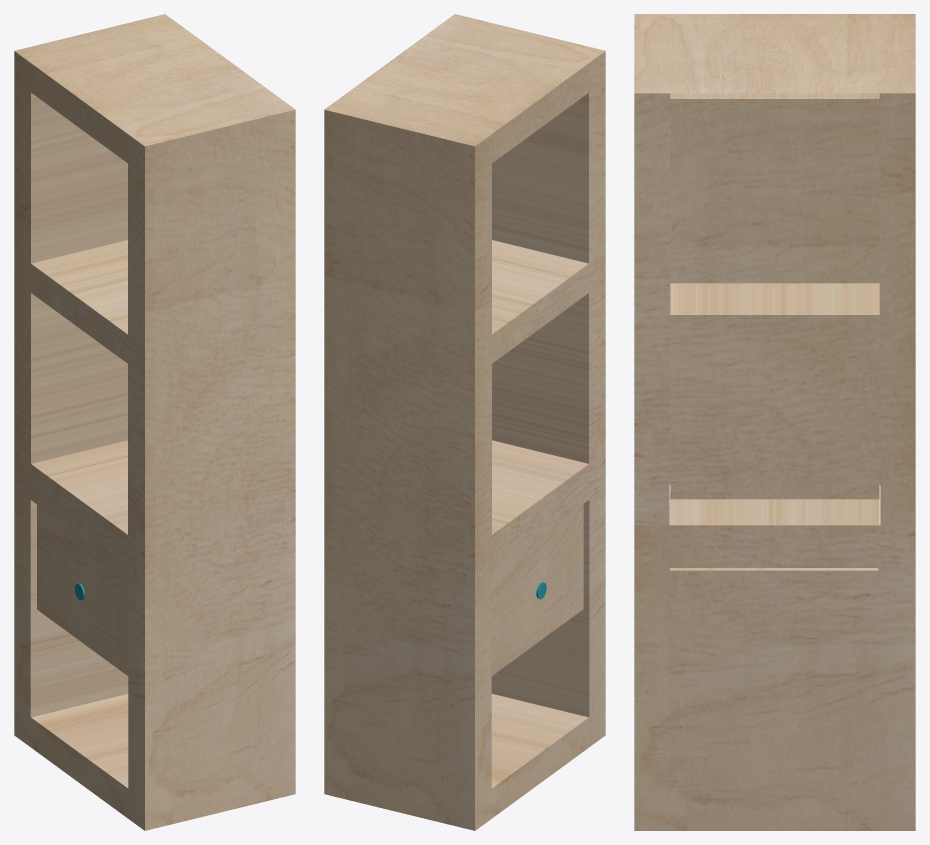
Rendered from alacenaVerCajones.obj.
The picture shows the model from 3 angles, left to right: view 1: azimuth 30°, elevation 25°; view 2: azimuth 150°, elevation 25°; view 3: azimuth 270°, elevation 25°; orthographic projection. The views are drawn at different scales.
Parts seen in each view (by area): view 1: polySurface1052; view 2: polySurface1052; view 3: polySurface1052.
Boxes of the visible parts, box(x1,y1,x2,y2) form: polySurface1052: box(14, 14, 295, 830); polySurface1052: box(324, 14, 605, 830); polySurface1052: box(634, 14, 915, 830).
Size of the model in its own units: 1.18 by 4.93 by 1.71.
Materials: 2 (2 with a texture image).
